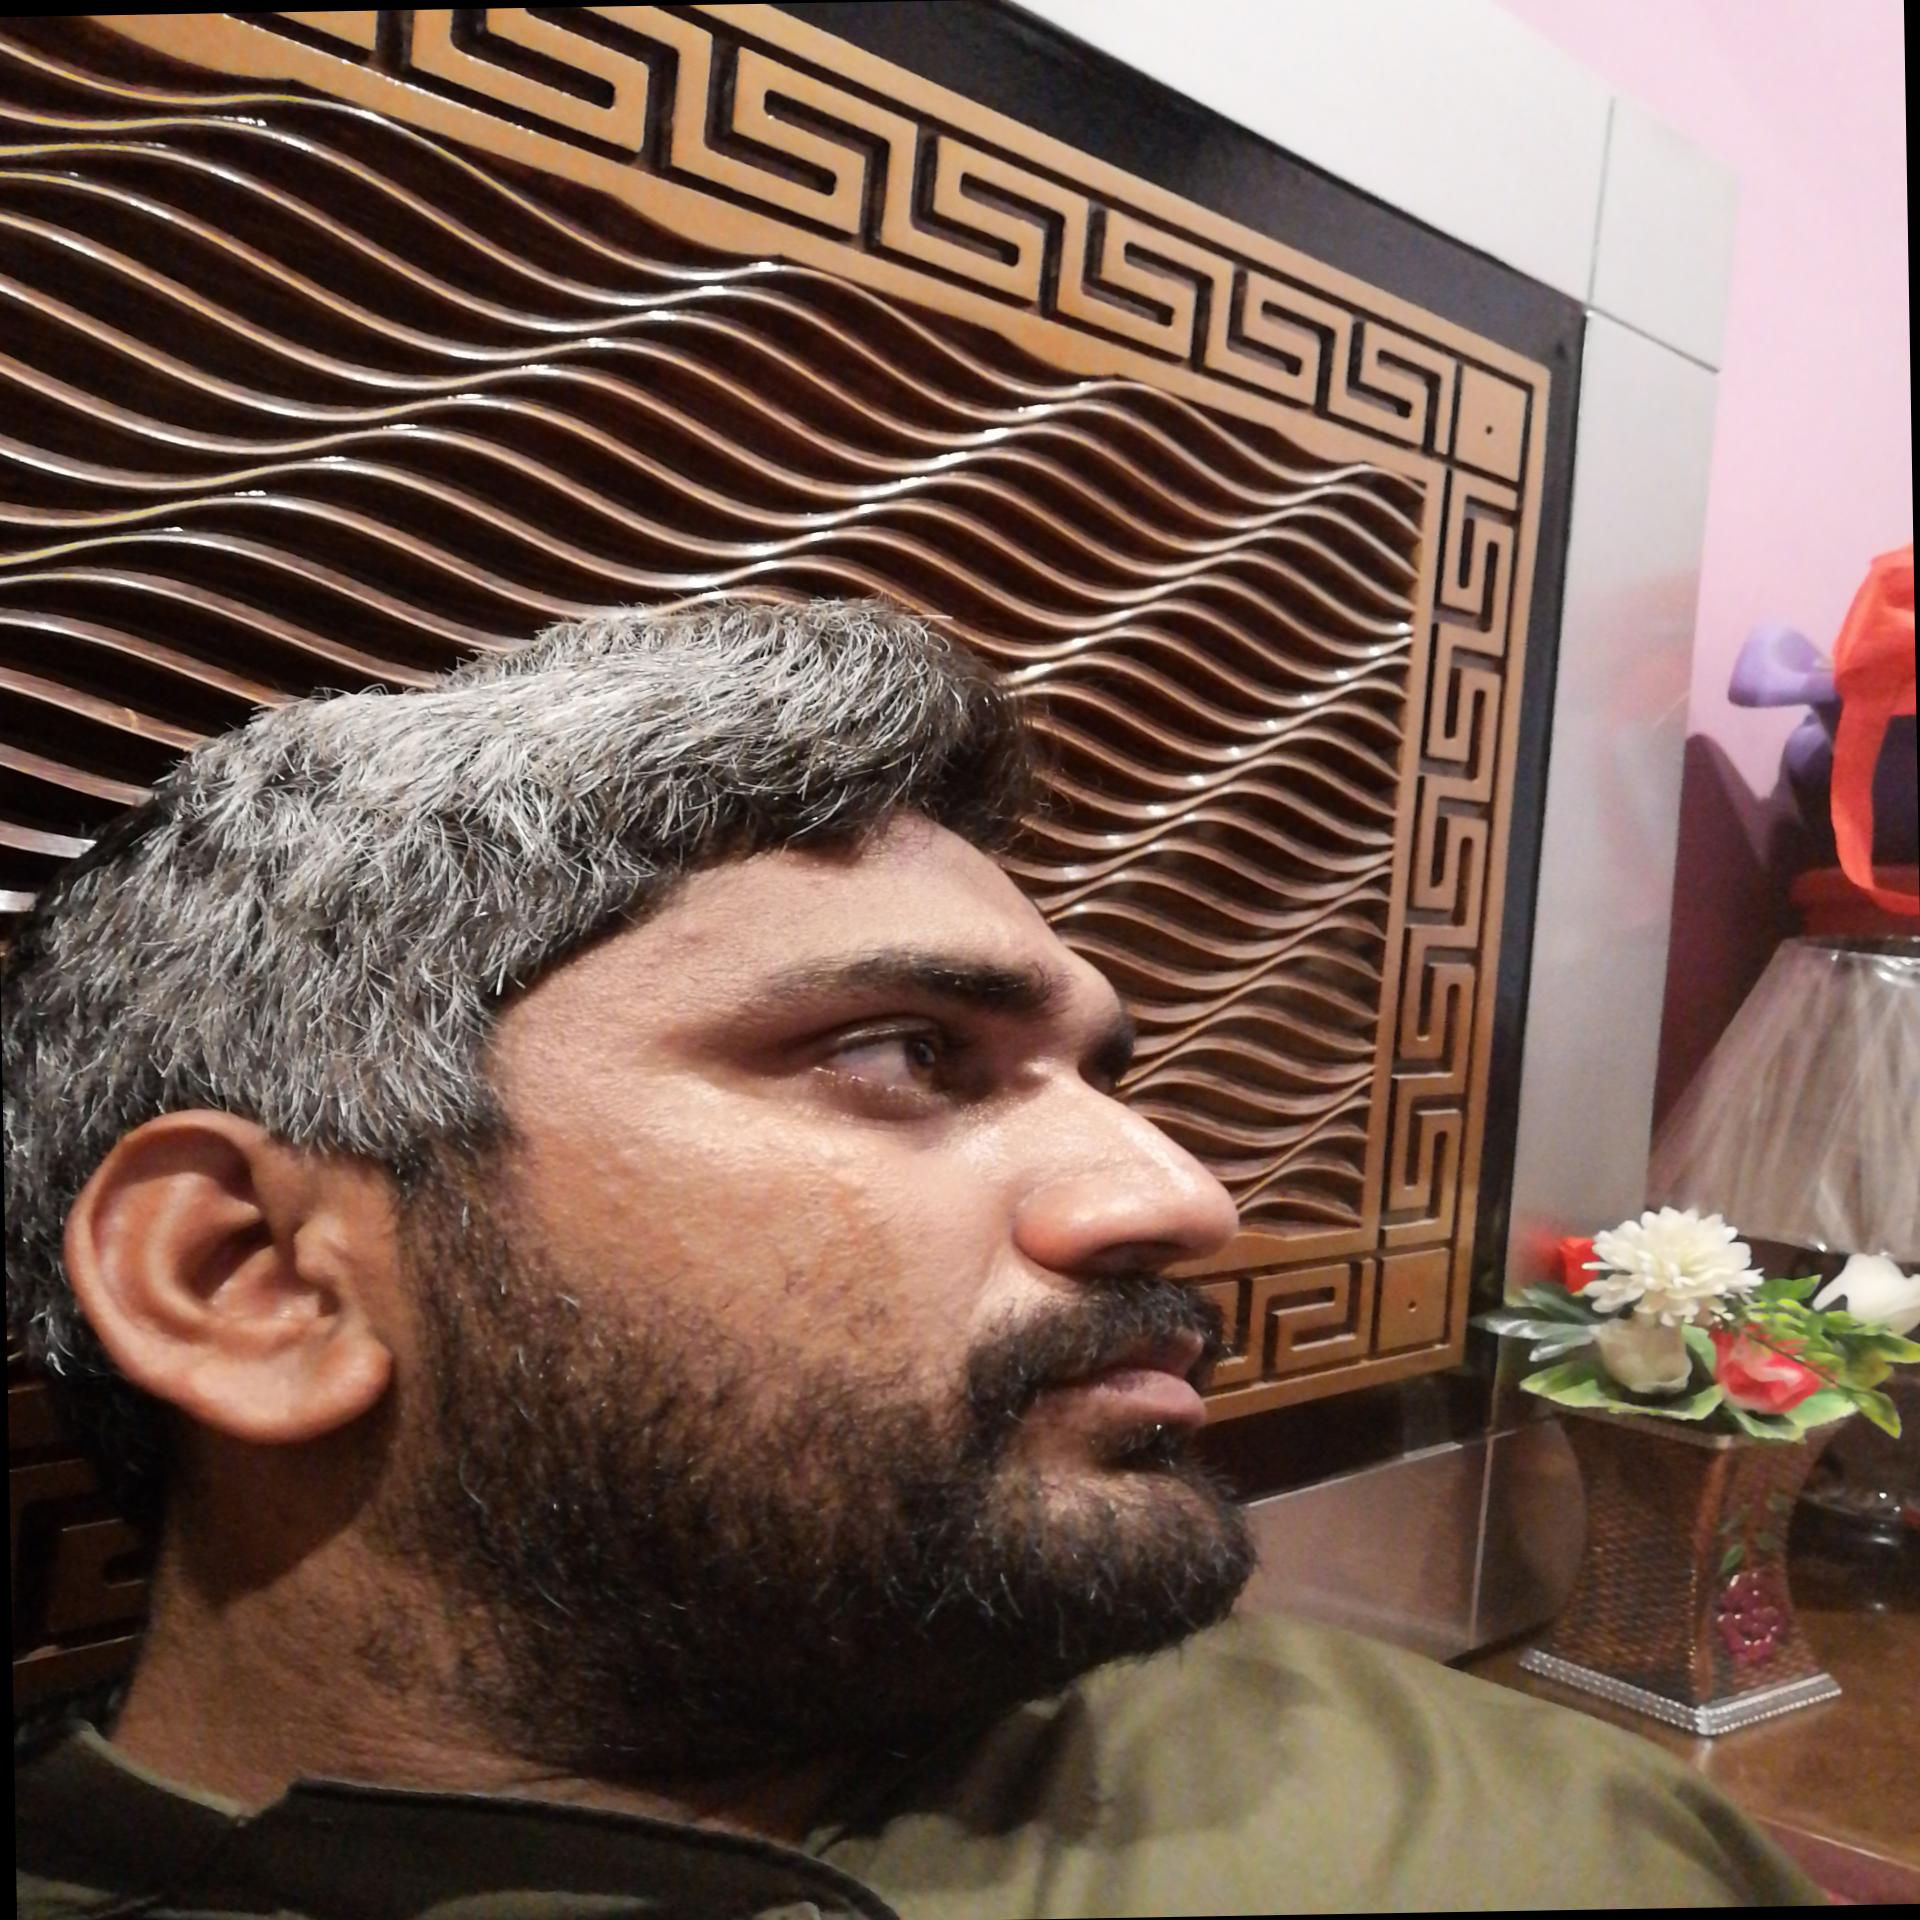Acne: (584, 1143, 652, 1218), (798, 1143, 863, 1166), (1013, 1058, 1051, 1085), (675, 920, 709, 944), (842, 1173, 865, 1197)
Wrinkles: (949, 1240, 1013, 1340)
